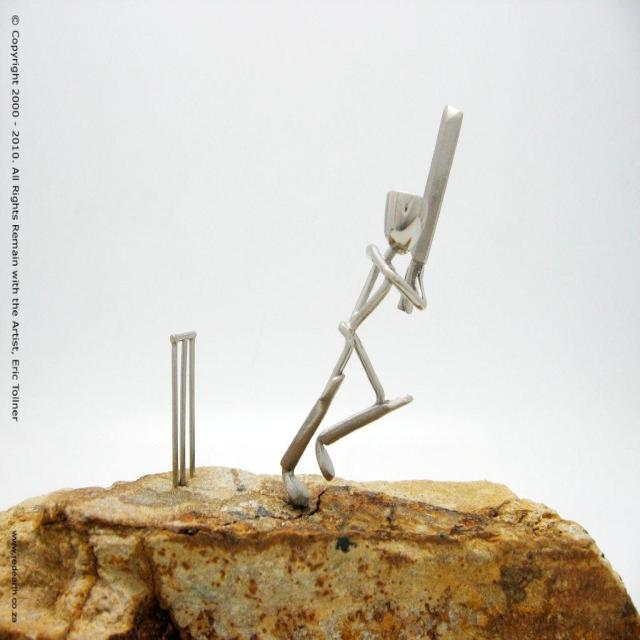stump: (171, 328, 195, 499)
